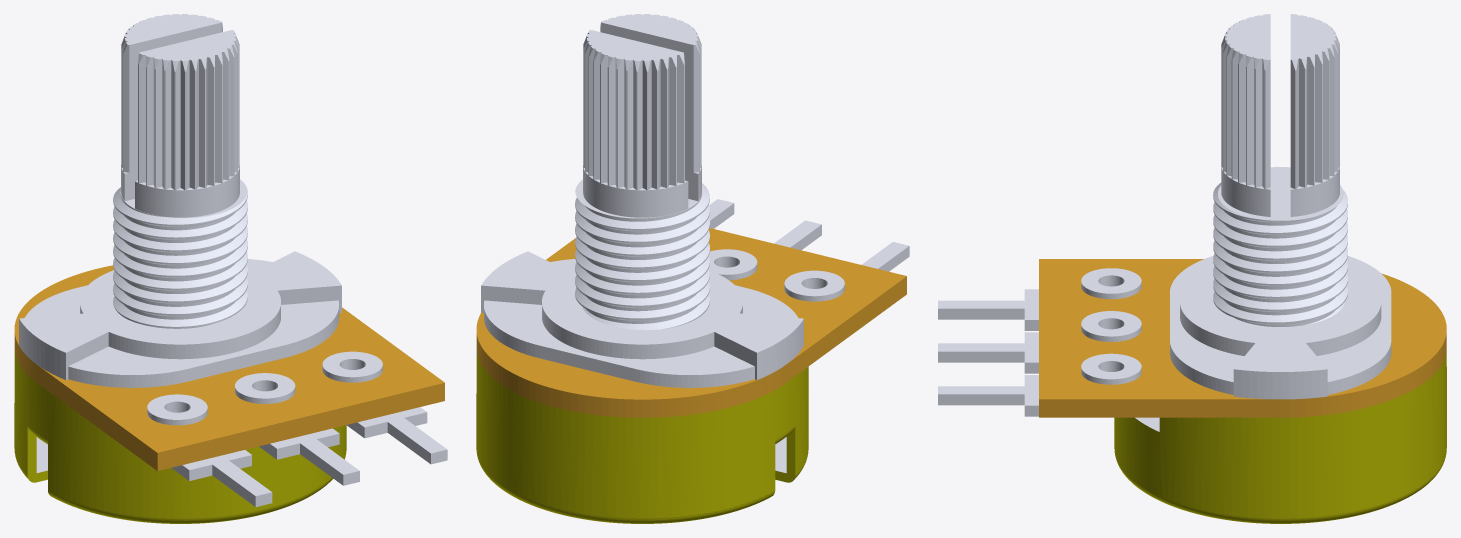
The model's file is potentiometer.glb.
The picture shows the model from 3 angles, left to right: view 1: azimuth 30°, elevation 25°; view 2: azimuth 150°, elevation 25°; view 3: azimuth 270°, elevation 25°; orthographic projection.
Parts seen in each view (by area): view 1: Node1, Node3, Node2; view 2: Node1, Node2, Node3; view 3: Node1, Node2, Node3.
Boxes of the visible parts, x1,y1,x2,y2 form: Node1: [19, 14, 447, 506]; Node3: [14, 265, 444, 470]; Node2: [14, 352, 346, 523]; Node1: [481, 14, 909, 473]; Node2: [476, 352, 808, 523]; Node3: [476, 228, 906, 417]; Node1: [938, 14, 1391, 431]; Node2: [1114, 352, 1446, 523]; Node3: [1039, 259, 1446, 417].
Size of the model in its own units: 16.5 by 23 by 25.25.
